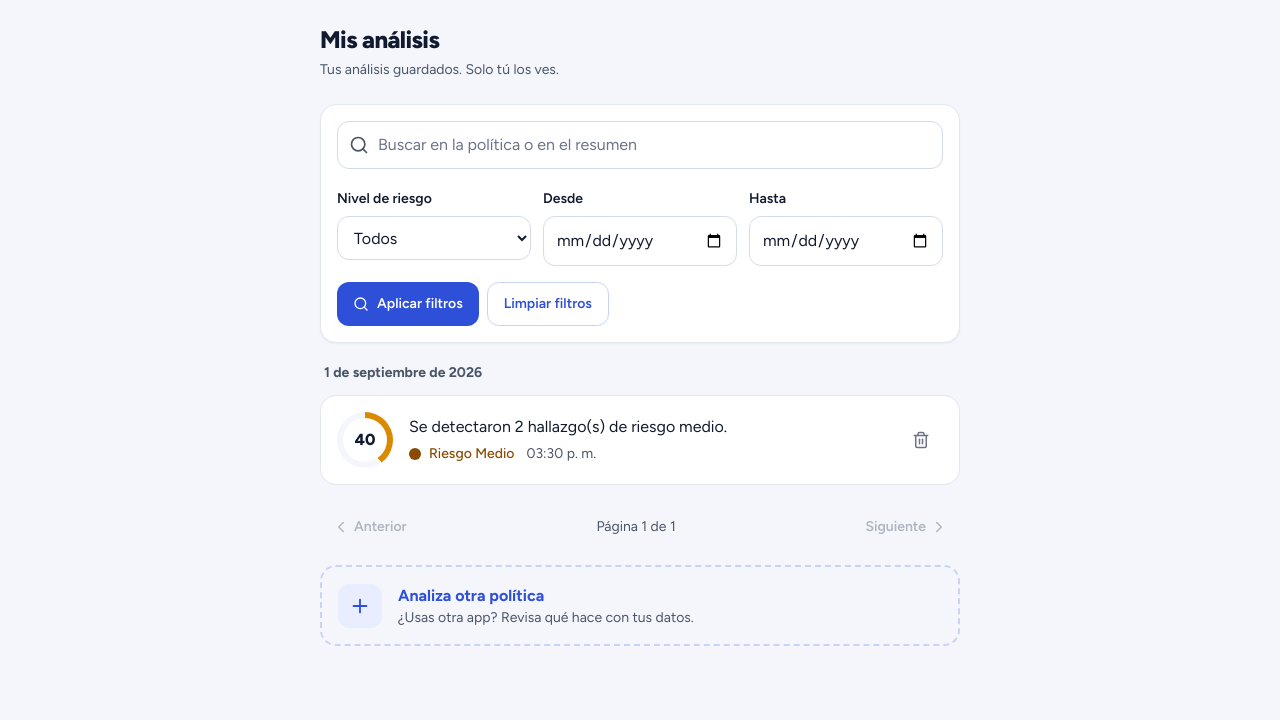
Test case: Historial › eliminación › muestra en el diálogo el error del servidor
This screenshot has width=1280, height=720.
Click the button named "Eliminar el análisis del".
click(921, 440)  # box [899,418,943,462]
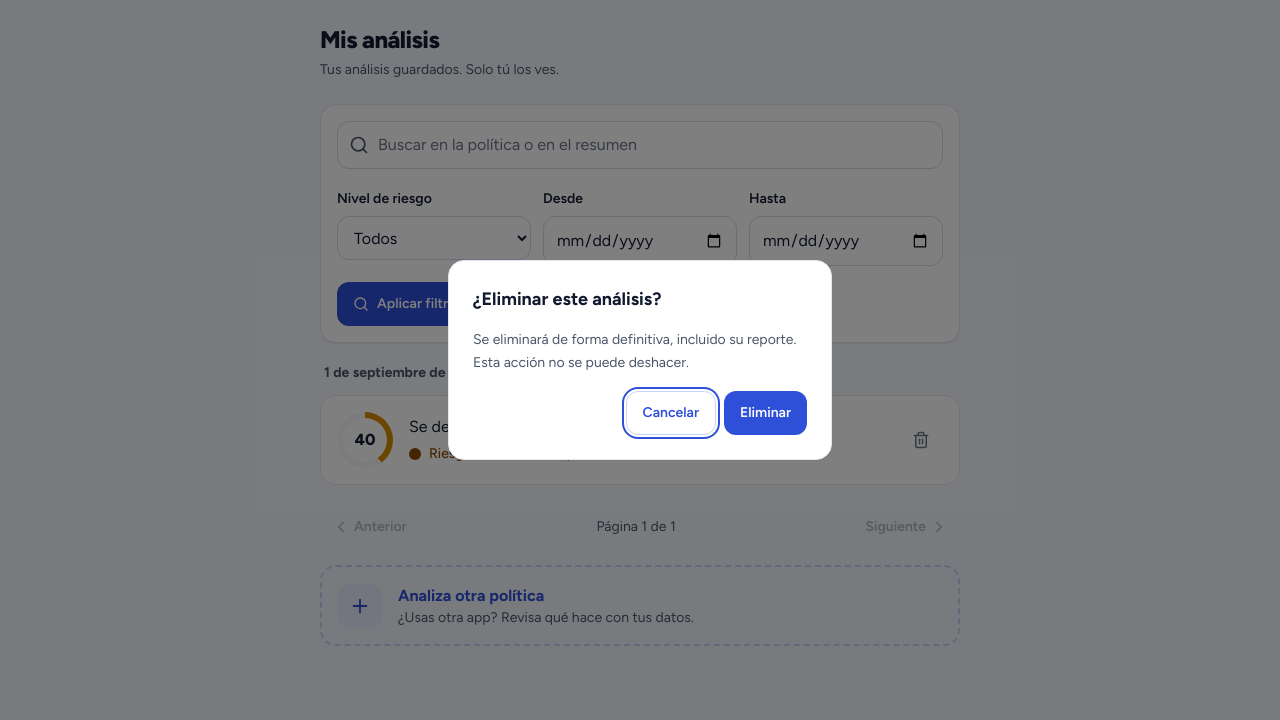
Click the button "Eliminar".
click(766, 413)  # box [724,391,807,435]
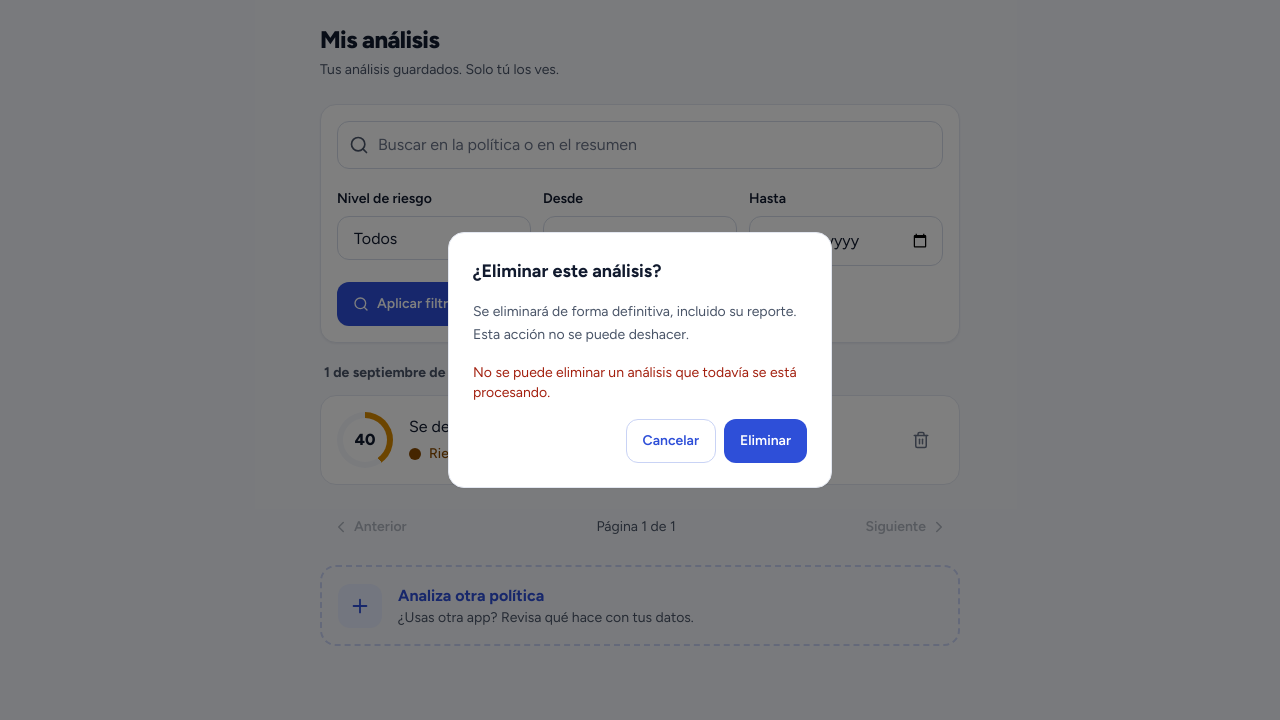
Expected: the text "No se puede eliminar un análisis que todavía se está procesando." is shown, [473,363,807,403]
